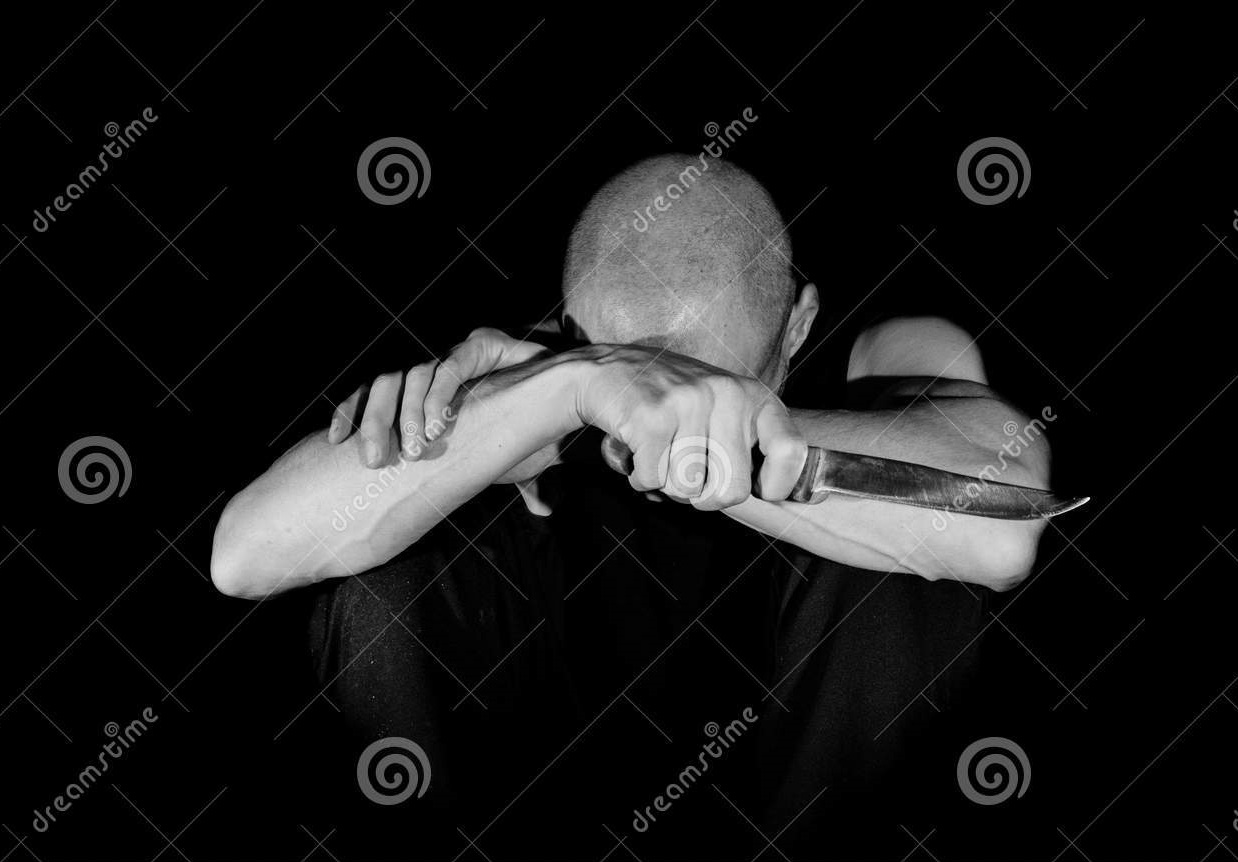knife: (637, 392, 1100, 524)
